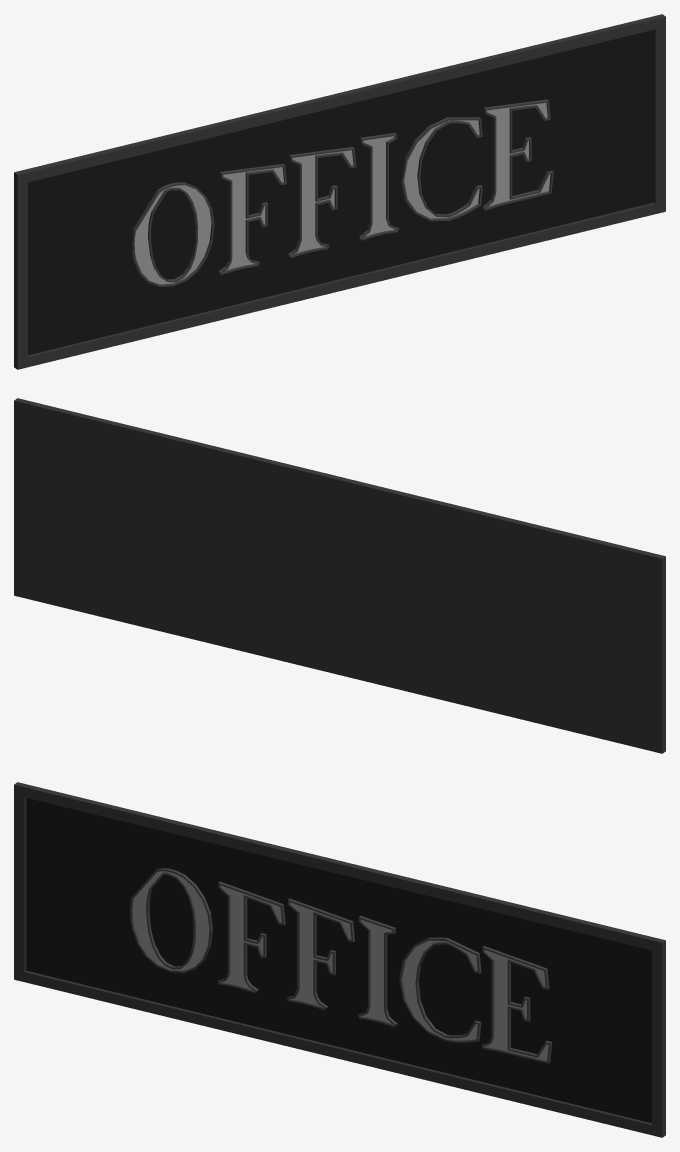
File: SM_BuildingsDecor_49.fbx
The picture shows the model from 3 angles, top to bottom: view 1: azimuth 30°, elevation 25°; view 2: azimuth 150°, elevation 25°; view 3: azimuth 330°, elevation 25°; orthographic projection.
Parts seen in each view (by area): view 1: SM_BuildingDecor_49; view 2: SM_BuildingDecor_49; view 3: SM_BuildingDecor_49.
Part boxes in pixels (bbox=[...]): SM_BuildingDecor_49: bbox=[14, 14, 665, 369]; SM_BuildingDecor_49: bbox=[14, 398, 665, 753]; SM_BuildingDecor_49: bbox=[14, 782, 665, 1137].
Size of the model in its own units: 2 by 0.5746 by 0.0189.
